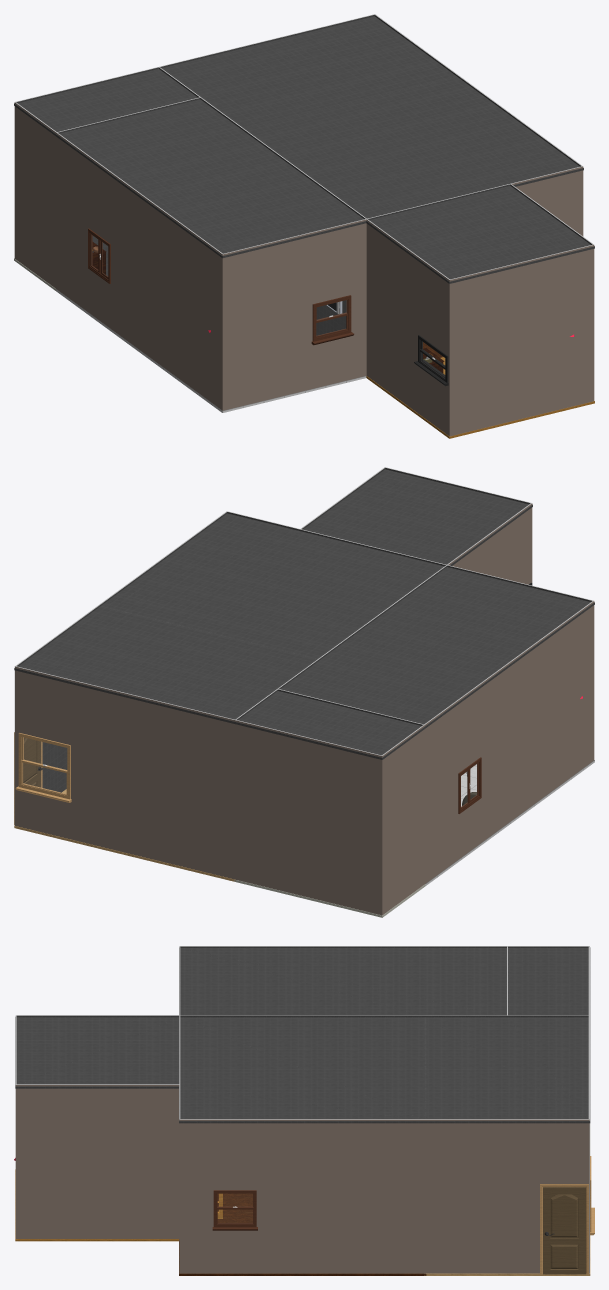
The model's file is ProcTHOR-Train-109.glb.
3 views of the same model, one above another, from view 1: azimuth 30°, elevation 25°; view 2: azimuth 150°, elevation 25°; view 3: azimuth 270°, elevation 25° (orthographic). The views are drawn at different scales.
Parts seen in each view (by area): view 1: Ceiling#room|2|c, WallInside#wall|exterior|8.70|1.74|8.70|8.70, Ceiling#room|5|c, WallInside#wall|exterior|1.74|12.18|5.22|12.18, WallInside#wall|exterior|5.22|8.70|8.70|8.70, Ceiling#room|4|c, WallInside#wall|exterior|5.22|8.70|5.22|12.18, Ceiling#room|6|c, WallInside#wall|exterior|8.70|0.00|8.70|1.74, Ceiling#room|3|c, WallInside#wall|exterior|0.00|8.70|1.74|8.70, WallInside#wall|5|5.22|3.48|5.22|8.70 (+5 smaller); view 2: WallInside#wall|exterior|0.00|0.00|5.22|0.00, Ceiling#room|2|c, WallInside#wall|exterior|8.70|1.74|8.70|8.70, Ceiling#room|5|c, WallInside#wall|exterior|5.22|0.00|8.70|0.00, Ceiling#room|4|c, Ceiling#room|6|c, WallInside#wall|exterior|8.70|0.00|8.70|1.74, Ceiling#room|3|c, WallInside#wall|exterior|5.22|8.70|5.22|12.18, Window_Hung_48x44, WallInside#wall|4|0.00|0.00|0.00|3.48 (+5 smaller); view 3: WallInside#wall|exterior|0.00|3.48|0.00|8.70, Ceiling#room|2|c, WallInside#wall|exterior|1.74|8.70|1.74|12.18, Ceiling#room|5|c, WallInside#wall|exterior|0.00|0.00|0.00|3.48, Ceiling#room|4|c, Ceiling#room|6|c, Ceiling#room|3|c, Doorway_6, Floor#room|2|f, Window_Hung_36x32, WallInside#wall|2|5.22|3.48|5.22|8.70 (+4 smaller).
Boxes of the visible parts, x1,y1,x2,y2 form: Ceiling#room|2|c: (244, 76, 583, 219); WallInside#wall|exterior|8.70|1.74|8.70|8.70: (56, 133, 222, 410); Ceiling#room|5|c: (56, 99, 366, 258); WallInside#wall|exterior|1.74|12.18|5.22|12.18: (449, 244, 594, 436); WallInside#wall|exterior|5.22|8.70|8.70|8.70: (222, 219, 366, 410); Ceiling#room|4|c: (162, 16, 456, 128); WallInside#wall|exterior|5.22|8.70|5.22|12.18: (366, 219, 449, 436); Ceiling#room|6|c: (366, 186, 594, 283); WallInside#wall|exterior|8.70|0.00|8.70|1.74: (14, 102, 56, 288); Ceiling#room|3|c: (14, 69, 197, 136); WallInside#wall|exterior|0.00|8.70|1.74|8.70: (511, 166, 583, 236); WallInside#wall|5|5.22|3.48|5.22|8.70: (241, 128, 366, 335); WallInside#wall|exterior|0.00|0.00|5.22|0.00: (15, 666, 235, 879); Ceiling#room|2|c: (100, 513, 447, 659); WallInside#wall|exterior|8.70|1.74|8.70|8.70: (424, 601, 594, 883); Ceiling#room|5|c: (281, 567, 594, 727); WallInside#wall|exterior|5.22|0.00|8.70|0.00: (234, 720, 382, 915); Ceiling#room|4|c: (14, 606, 317, 723); Ceiling#room|6|c: (303, 469, 532, 565); WallInside#wall|exterior|8.70|0.00|8.70|1.74: (382, 725, 424, 914); Ceiling#room|3|c: (234, 691, 425, 759); WallInside#wall|exterior|5.22|8.70|5.22|12.18: (447, 503, 532, 584); Window_Hung_48x44: (15, 733, 71, 802); WallInside#wall|4|0.00|0.00|0.00|3.48: (15, 604, 100, 792); WallInside#wall|exterior|0.00|3.48|0.00|8.70: (179, 1119, 425, 1273); Ceiling#room|2|c: (179, 1017, 426, 1123); WallInside#wall|exterior|1.74|8.70|1.74|12.18: (15, 1084, 179, 1238); Ceiling#room|5|c: (179, 947, 508, 1015); WallInside#wall|exterior|0.00|0.00|0.00|3.48: (425, 1119, 589, 1273); Ceiling#room|4|c: (424, 1017, 590, 1123); Ceiling#room|6|c: (15, 1017, 180, 1088); Ceiling#room|3|c: (506, 947, 590, 1016); Doorway_6: (540, 1184, 588, 1274); Floor#room|2|f: (179, 1193, 426, 1275); Window_Hung_36x32: (212, 1190, 257, 1230); WallInside#wall|2|5.22|3.48|5.22|8.70: (180, 1015, 425, 1017).
Size of what is drawn, in the model's own units: 8.87 by 3.66 by 12.35.
324 materials, 143 textured.
